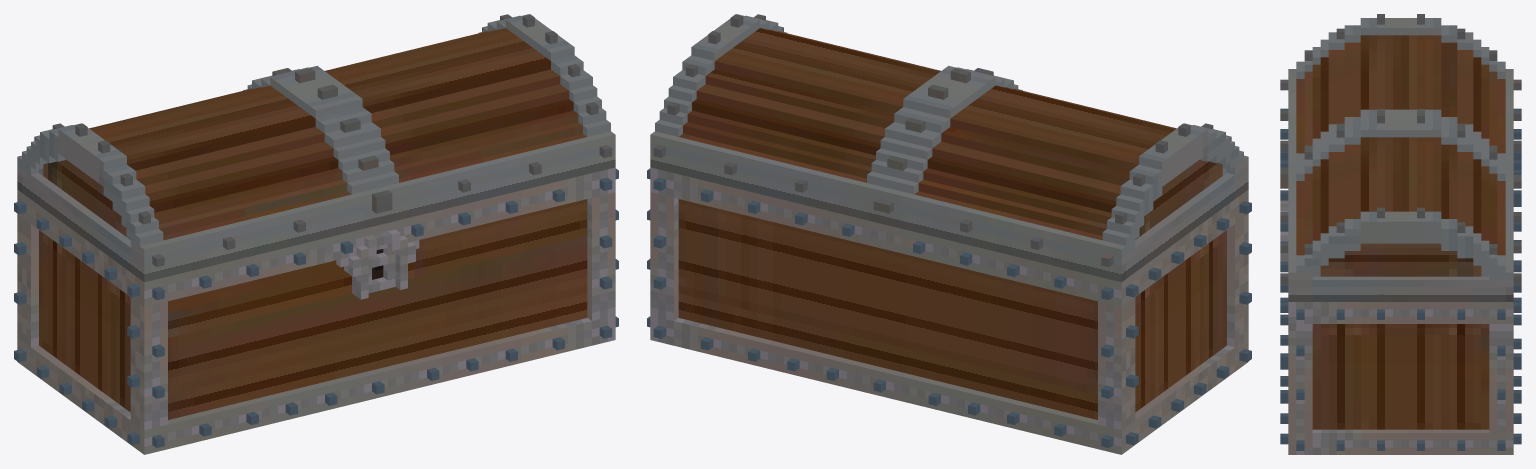
File: treasure-chest.glb
The picture shows the model from 3 angles, left to right: view 1: azimuth 30°, elevation 25°; view 2: azimuth 150°, elevation 25°; view 3: azimuth 270°, elevation 25°; orthographic projection. The views are drawn at different scales.
Visible parts, largest first — view 1: Chest_Main-Local; view 2: Chest_Main-Local; view 3: Chest_Main-Local.
Boxes of the visible parts, x1,y1,x2,y2 form: Chest_Main-Local: (14, 14, 618, 454); Chest_Main-Local: (647, 14, 1251, 454); Chest_Main-Local: (1280, 14, 1521, 454).
Bounding box in the file's own units: 2.07 × 1.1 × 1.
Materials: 2 (2 with a texture image).
